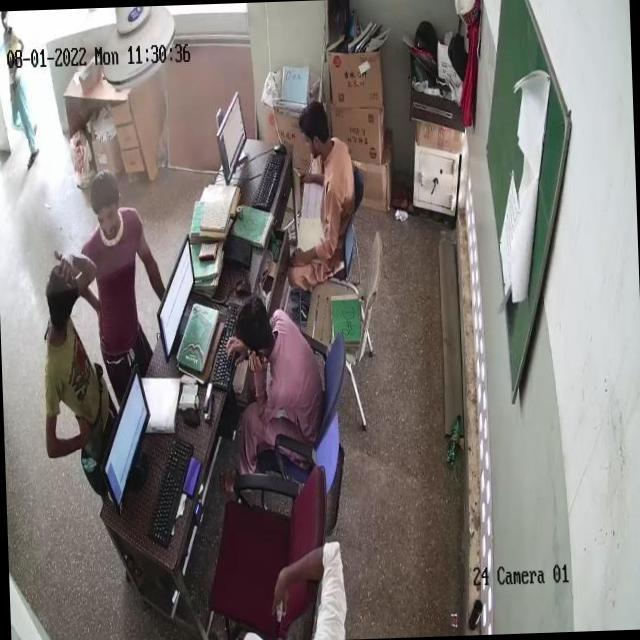person: (239, 288, 334, 461), (86, 187, 156, 369), (42, 278, 108, 448), (302, 97, 352, 260), (0, 13, 40, 171)
